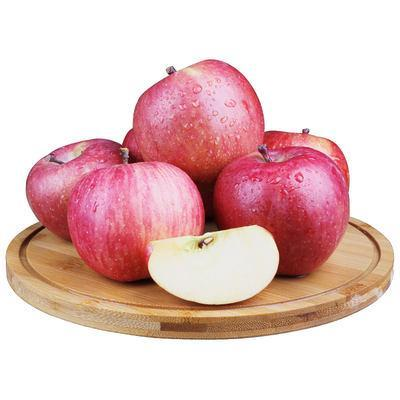apple: (211, 145, 350, 279), (65, 161, 205, 284), (133, 56, 265, 179), (145, 225, 283, 305), (24, 140, 123, 239)
